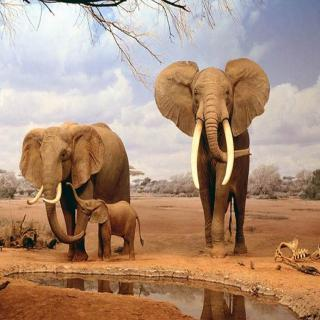Elephant: (152, 55, 272, 262), (18, 120, 135, 264), (61, 177, 146, 261)
